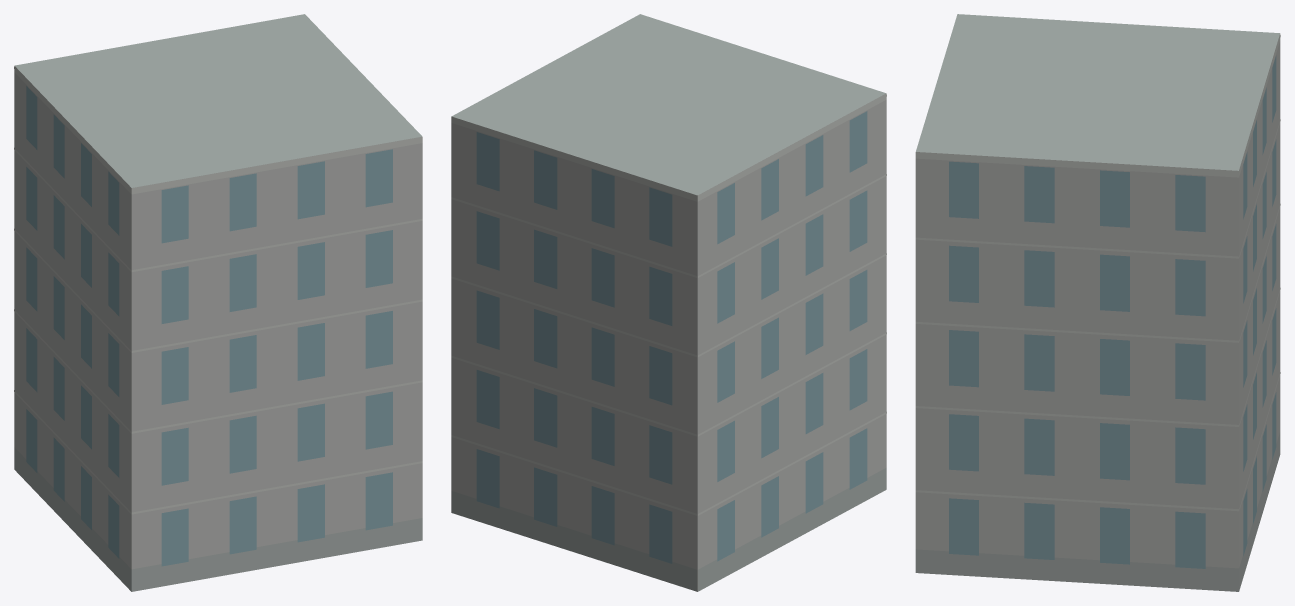
File: residential-437b05fe-ceff-42fd-9270-8a08756754c6.glb
The picture shows the model from 3 angles, left to right: view 1: azimuth 30°, elevation 25°; view 2: azimuth 150°, elevation 25°; view 3: azimuth 270°, elevation 25°; orthographic projection. The views are drawn at different scales.
Visible parts, largest first — view 1: residential-437b05fe-ceff-42fd-9270-8a08756754c6.tmp; view 2: residential-437b05fe-ceff-42fd-9270-8a08756754c6.tmp; view 3: residential-437b05fe-ceff-42fd-9270-8a08756754c6.tmp.
Boxes of the visible parts, box(x1,y1,x2,y2) form: residential-437b05fe-ceff-42fd-9270-8a08756754c6.tmp: box(14, 14, 422, 591); residential-437b05fe-ceff-42fd-9270-8a08756754c6.tmp: box(451, 14, 886, 591); residential-437b05fe-ceff-42fd-9270-8a08756754c6.tmp: box(915, 14, 1280, 591).
Size of the model in its own units: 12.21 by 15.25 by 11.99.
